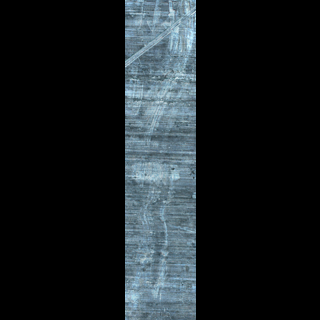d: (133, 161, 166, 304), (124, 2, 192, 71), (124, 73, 173, 146), (131, 157, 183, 191)
